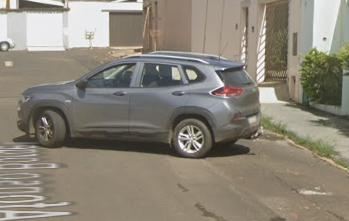car: (11, 36, 269, 162)
